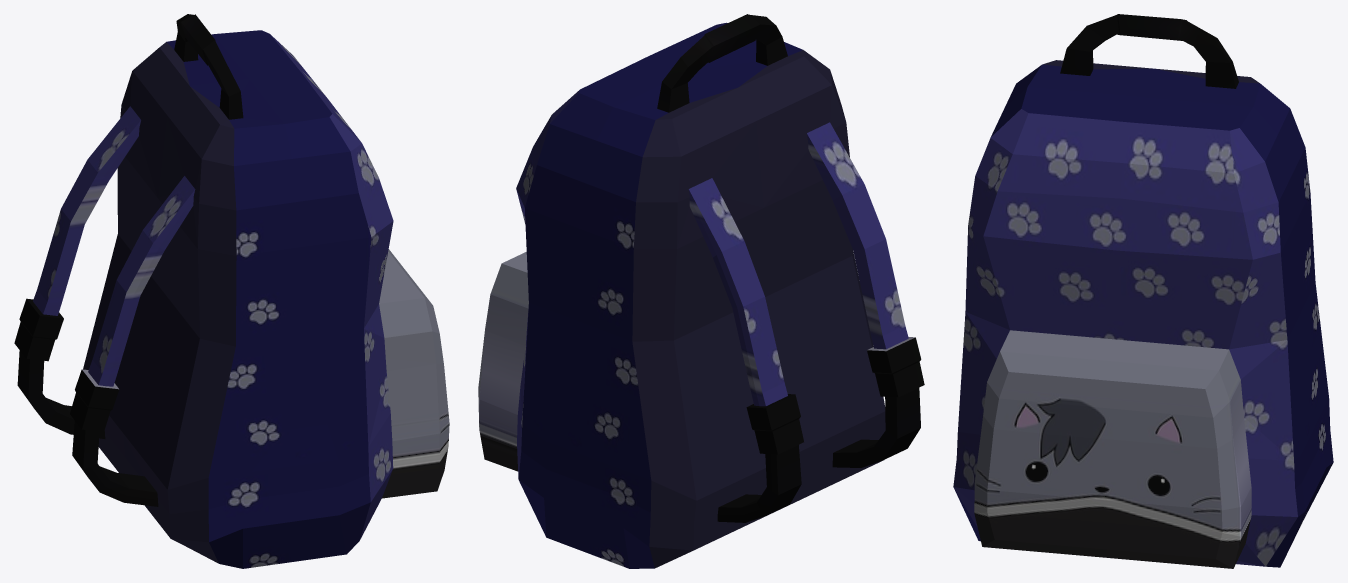
Rendered from backpackFBX.fbx.
The picture shows the model from 3 angles, left to right: view 1: azimuth 30°, elevation 25°; view 2: azimuth 150°, elevation 25°; view 3: azimuth 270°, elevation 25°; orthographic projection. The views are drawn at different scales.
Parts seen in each view (by area): view 1: Object_2; view 2: Object_2; view 3: Object_2.
Boxes of the visible parts, <box> form: Object_2: <box>14,14,449,568</box>; Object_2: <box>478,14,924,568</box>; Object_2: <box>953,14,1333,568</box>.
Bounding box in the file's own units: 79.27 × 99.93 × 69.55.
1 material, 1 textured.
